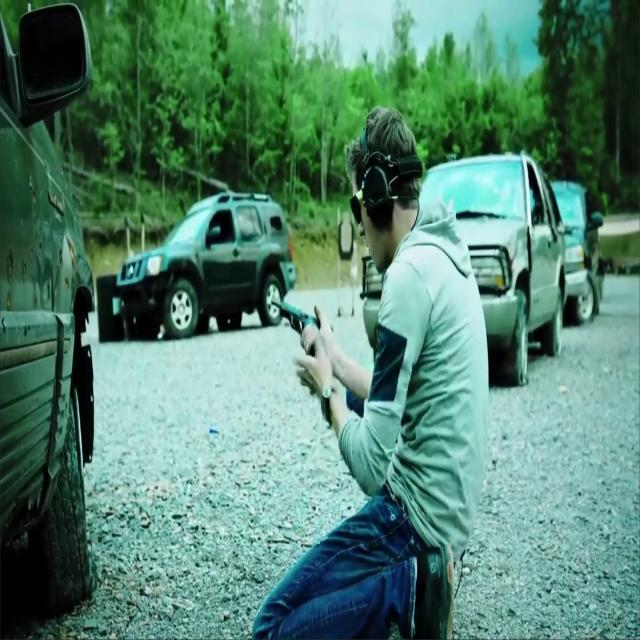gun: (278, 300, 322, 363)
